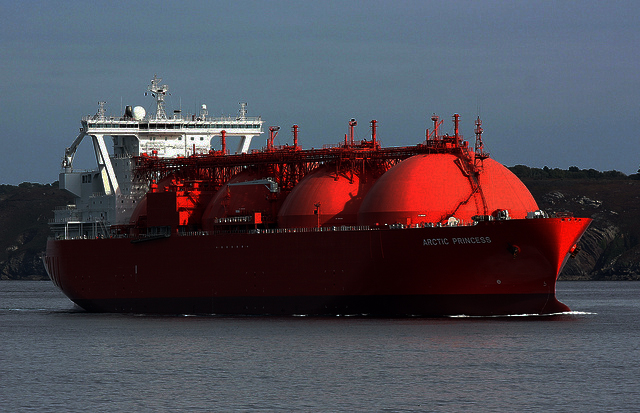LNG_ship: (40, 77, 590, 316)
